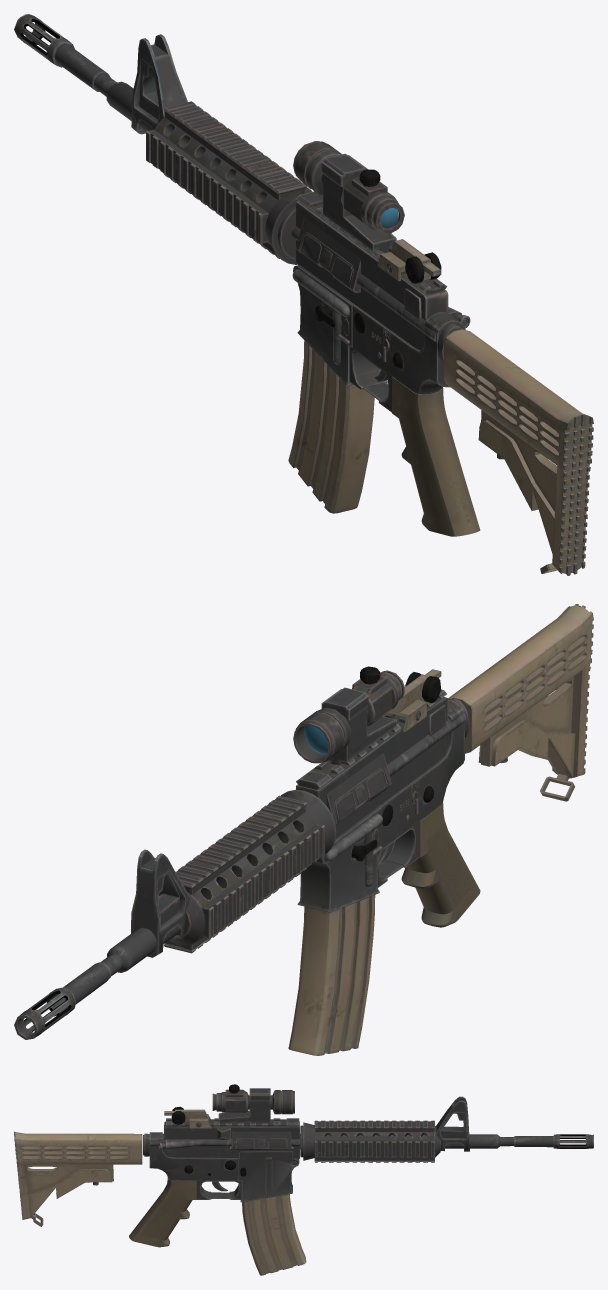
File: guns_m4a1.2f6bdffe33.glb
The picture shows the model from 3 angles, top to bottom: view 1: azimuth 30°, elevation 25°; view 2: azimuth 150°, elevation 25°; view 3: azimuth 270°, elevation 25°; orthographic projection. The views are drawn at different scales.
Visible parts, largest first — view 1: M4; view 2: M4; view 3: M4.
Part boxes in pixels (x1,y1,x2,y2): M4: (14, 14, 593, 575); M4: (14, 604, 593, 1055); M4: (14, 1084, 593, 1275).
Bounding box in the file's own units: 0.3245 × 1.72 × 4.84.
1 material, 1 textured.
